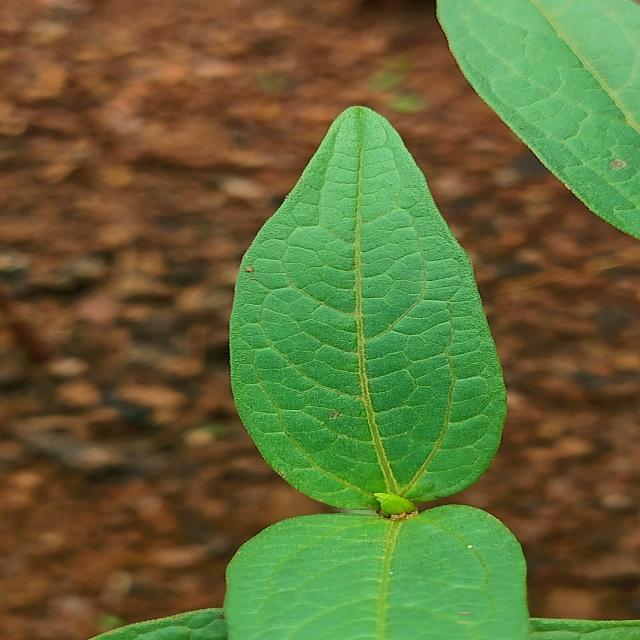Black gram_healthy: (225, 101, 501, 511), (429, 2, 640, 242), (222, 513, 514, 640)
